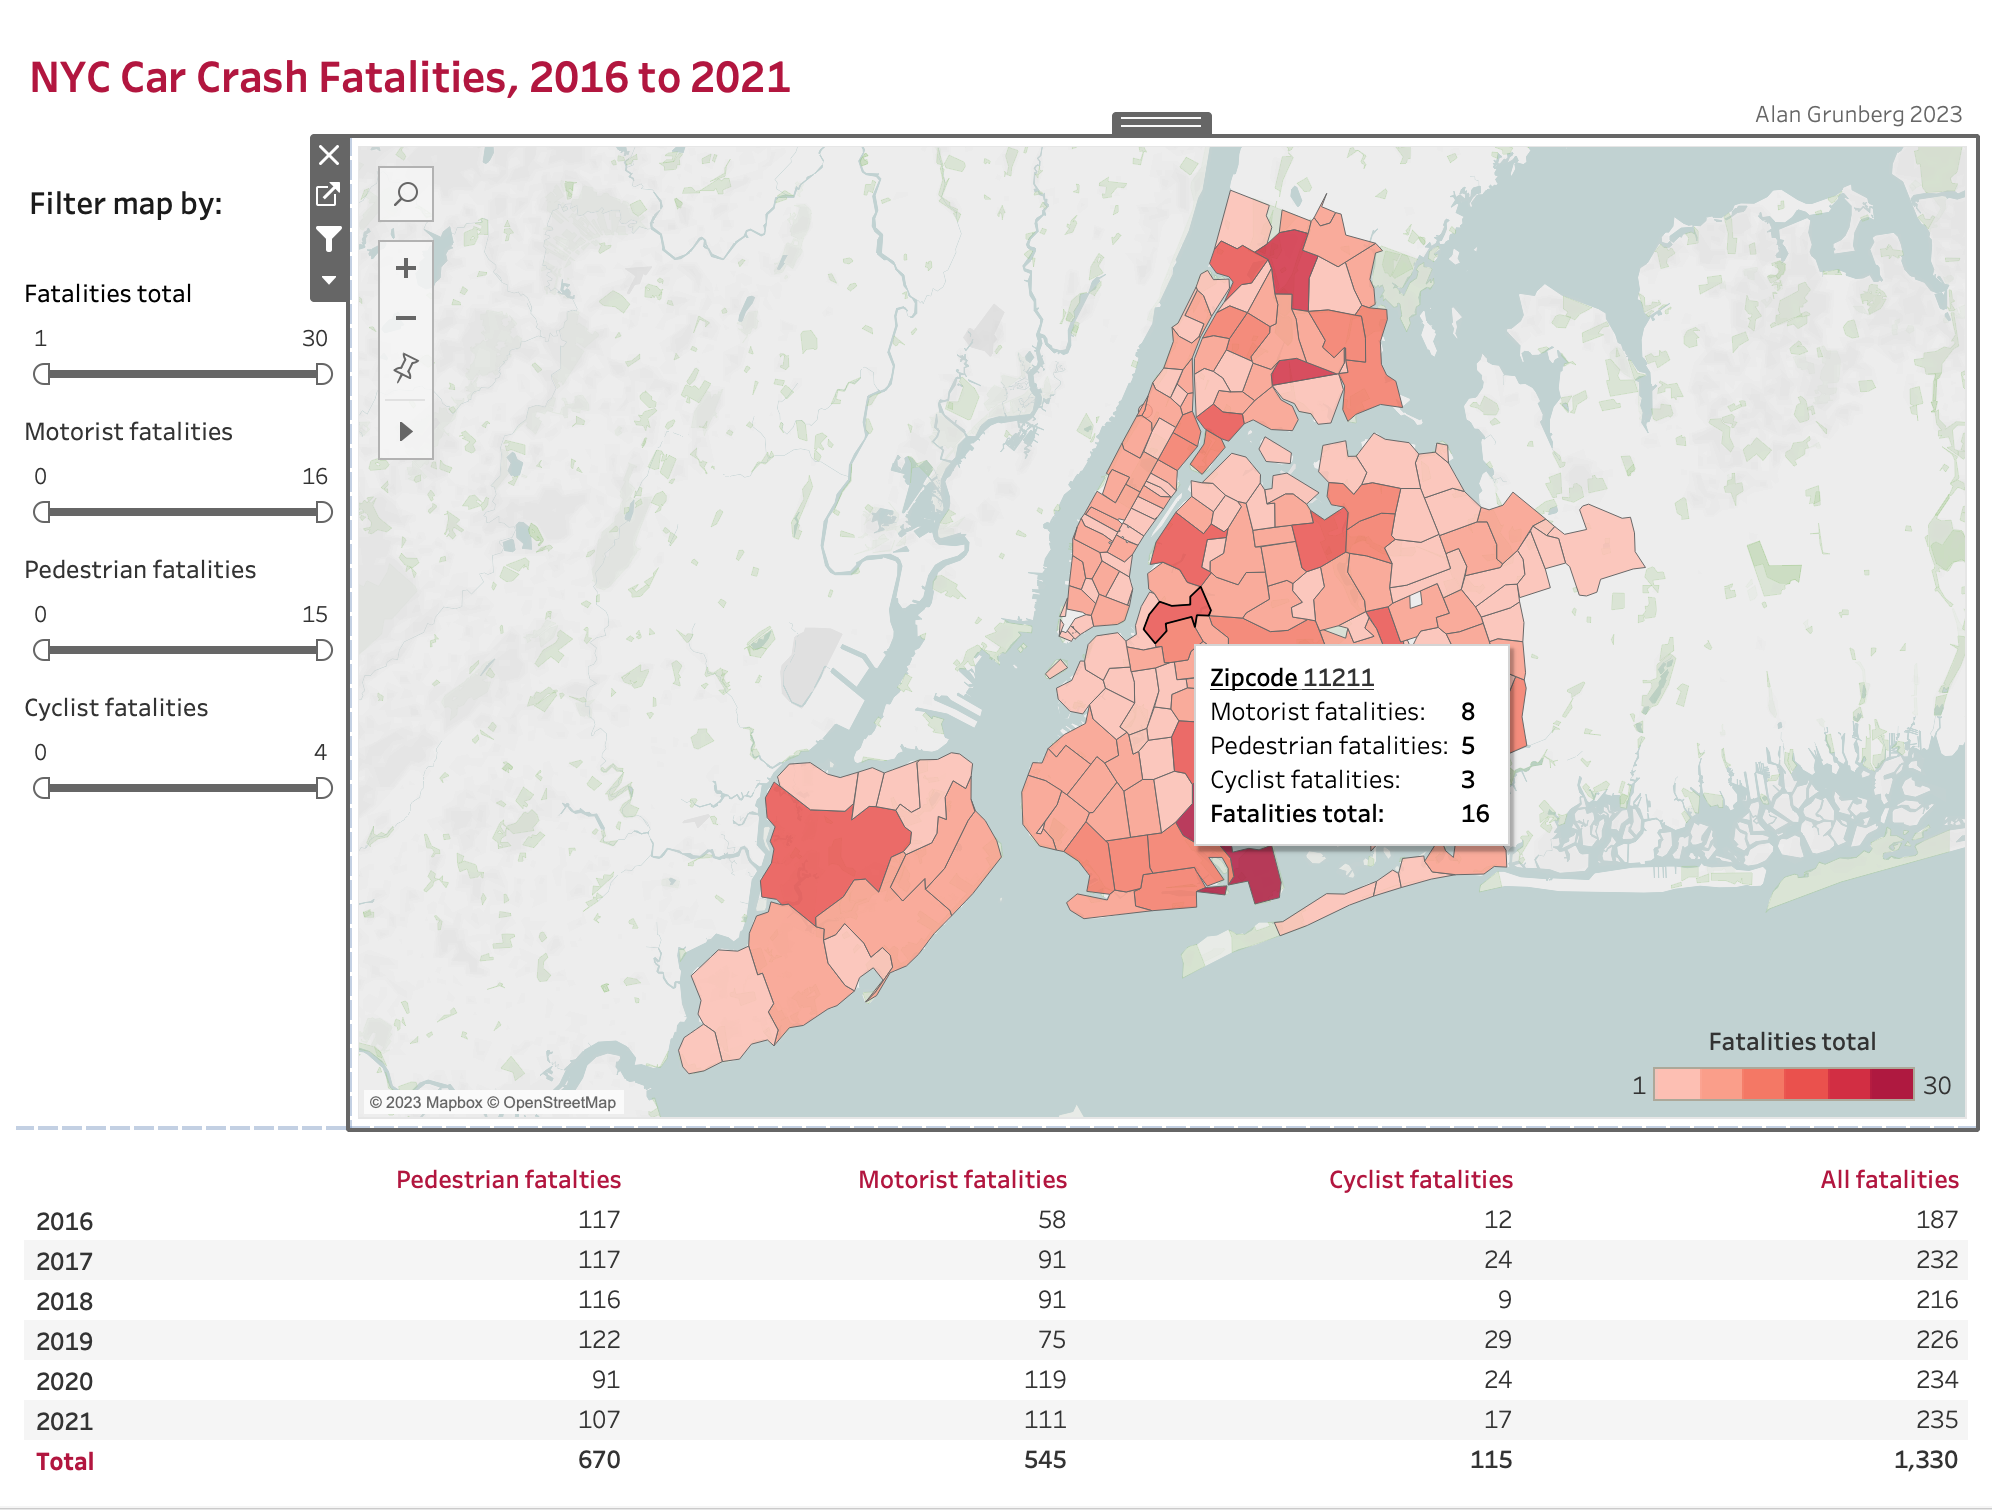

What the dashboard file says about the page in this screenshot:
{"tool":"tableau","page":{"name":"Dashboard","canvas":[1000,1000],"units":"permille","ordinal":0},"visuals":[{"type":"text","box":[8,10.6,491.9,83.4]},{"type":"text","box":[500,10.6,492,83.4]},{"type":"text","box":[8,94,167.6,86.1]},{"type":"worksheet","title":"map","mark":"Multipolygon","box":[175.6,94,816.3,655.6]},{"type":"filter","title":"map","param":"[federated.0utcl0c1w7fwq617ulfxz0hgaiz5].[sum:NUMBER OF PERSONS KILLED:qk]","box":[8,180.1,167.6,91.4]},{"type":"filter","title":"map","param":"[federated.0utcl0c1w7fwq617ulfxz0hgaiz5].[sum:NUMBER OF MOTORIST KILLED:qk]","box":[8,271.5,167.6,91.4]},{"type":"filter","title":"map","param":"[federated.0utcl0c1w7fwq617ulfxz0hgaiz5].[sum:NUMBER OF PEDESTRIANS KILLED:qk]","box":[8,362.9,167.6,91.4]},{"type":"filter","title":"map","param":"[federated.0utcl0c1w7fwq617ulfxz0hgaiz5].[sum:NUMBER OF CYCLIST KILLED:qk]","box":[8,454.3,167.6,91.4]},{"type":"image","param":"/Users/MacBookPro/Desktop/Looking For Data Work/Transportation Alternatives/exam","box":[8,545.7,167.6,204]},{"type":"legend","title":"map","param":"[federated.0utcl0c1w7fwq617ulfxz0hgaiz5].[sum:NUMBER OF PERSONS KILLED:qk]","box":[815.3,680.8,169.7,59.6]},{"type":"worksheet","title":"table","mark":"Automatic","rows":["CRASH DATETIME"],"box":[8,749.6,983.9,239.8]}]}

Visuals, with their boxes on the dashboard's canvas, which has no fixed pixel size, in thousandths of its width and height (x1, y1, x2, y2). These are canvas units, not pixel positions in the 1992x1510 screenshot, which may show the page scaled, cropped or inside an application window:
text: x1=8 y1=11 x2=500 y2=94
text: x1=500 y1=11 x2=992 y2=94
text: x1=8 y1=94 x2=176 y2=180
"map" worksheet (Multipolygon marks): x1=176 y1=94 x2=992 y2=750
"map" filter: x1=8 y1=180 x2=176 y2=272
"map" filter: x1=8 y1=272 x2=176 y2=363
"map" filter: x1=8 y1=363 x2=176 y2=454
"map" filter: x1=8 y1=454 x2=176 y2=546
image: x1=8 y1=546 x2=176 y2=750
"map" legend: x1=815 y1=681 x2=985 y2=740
"table" worksheet: x1=8 y1=750 x2=992 y2=989
